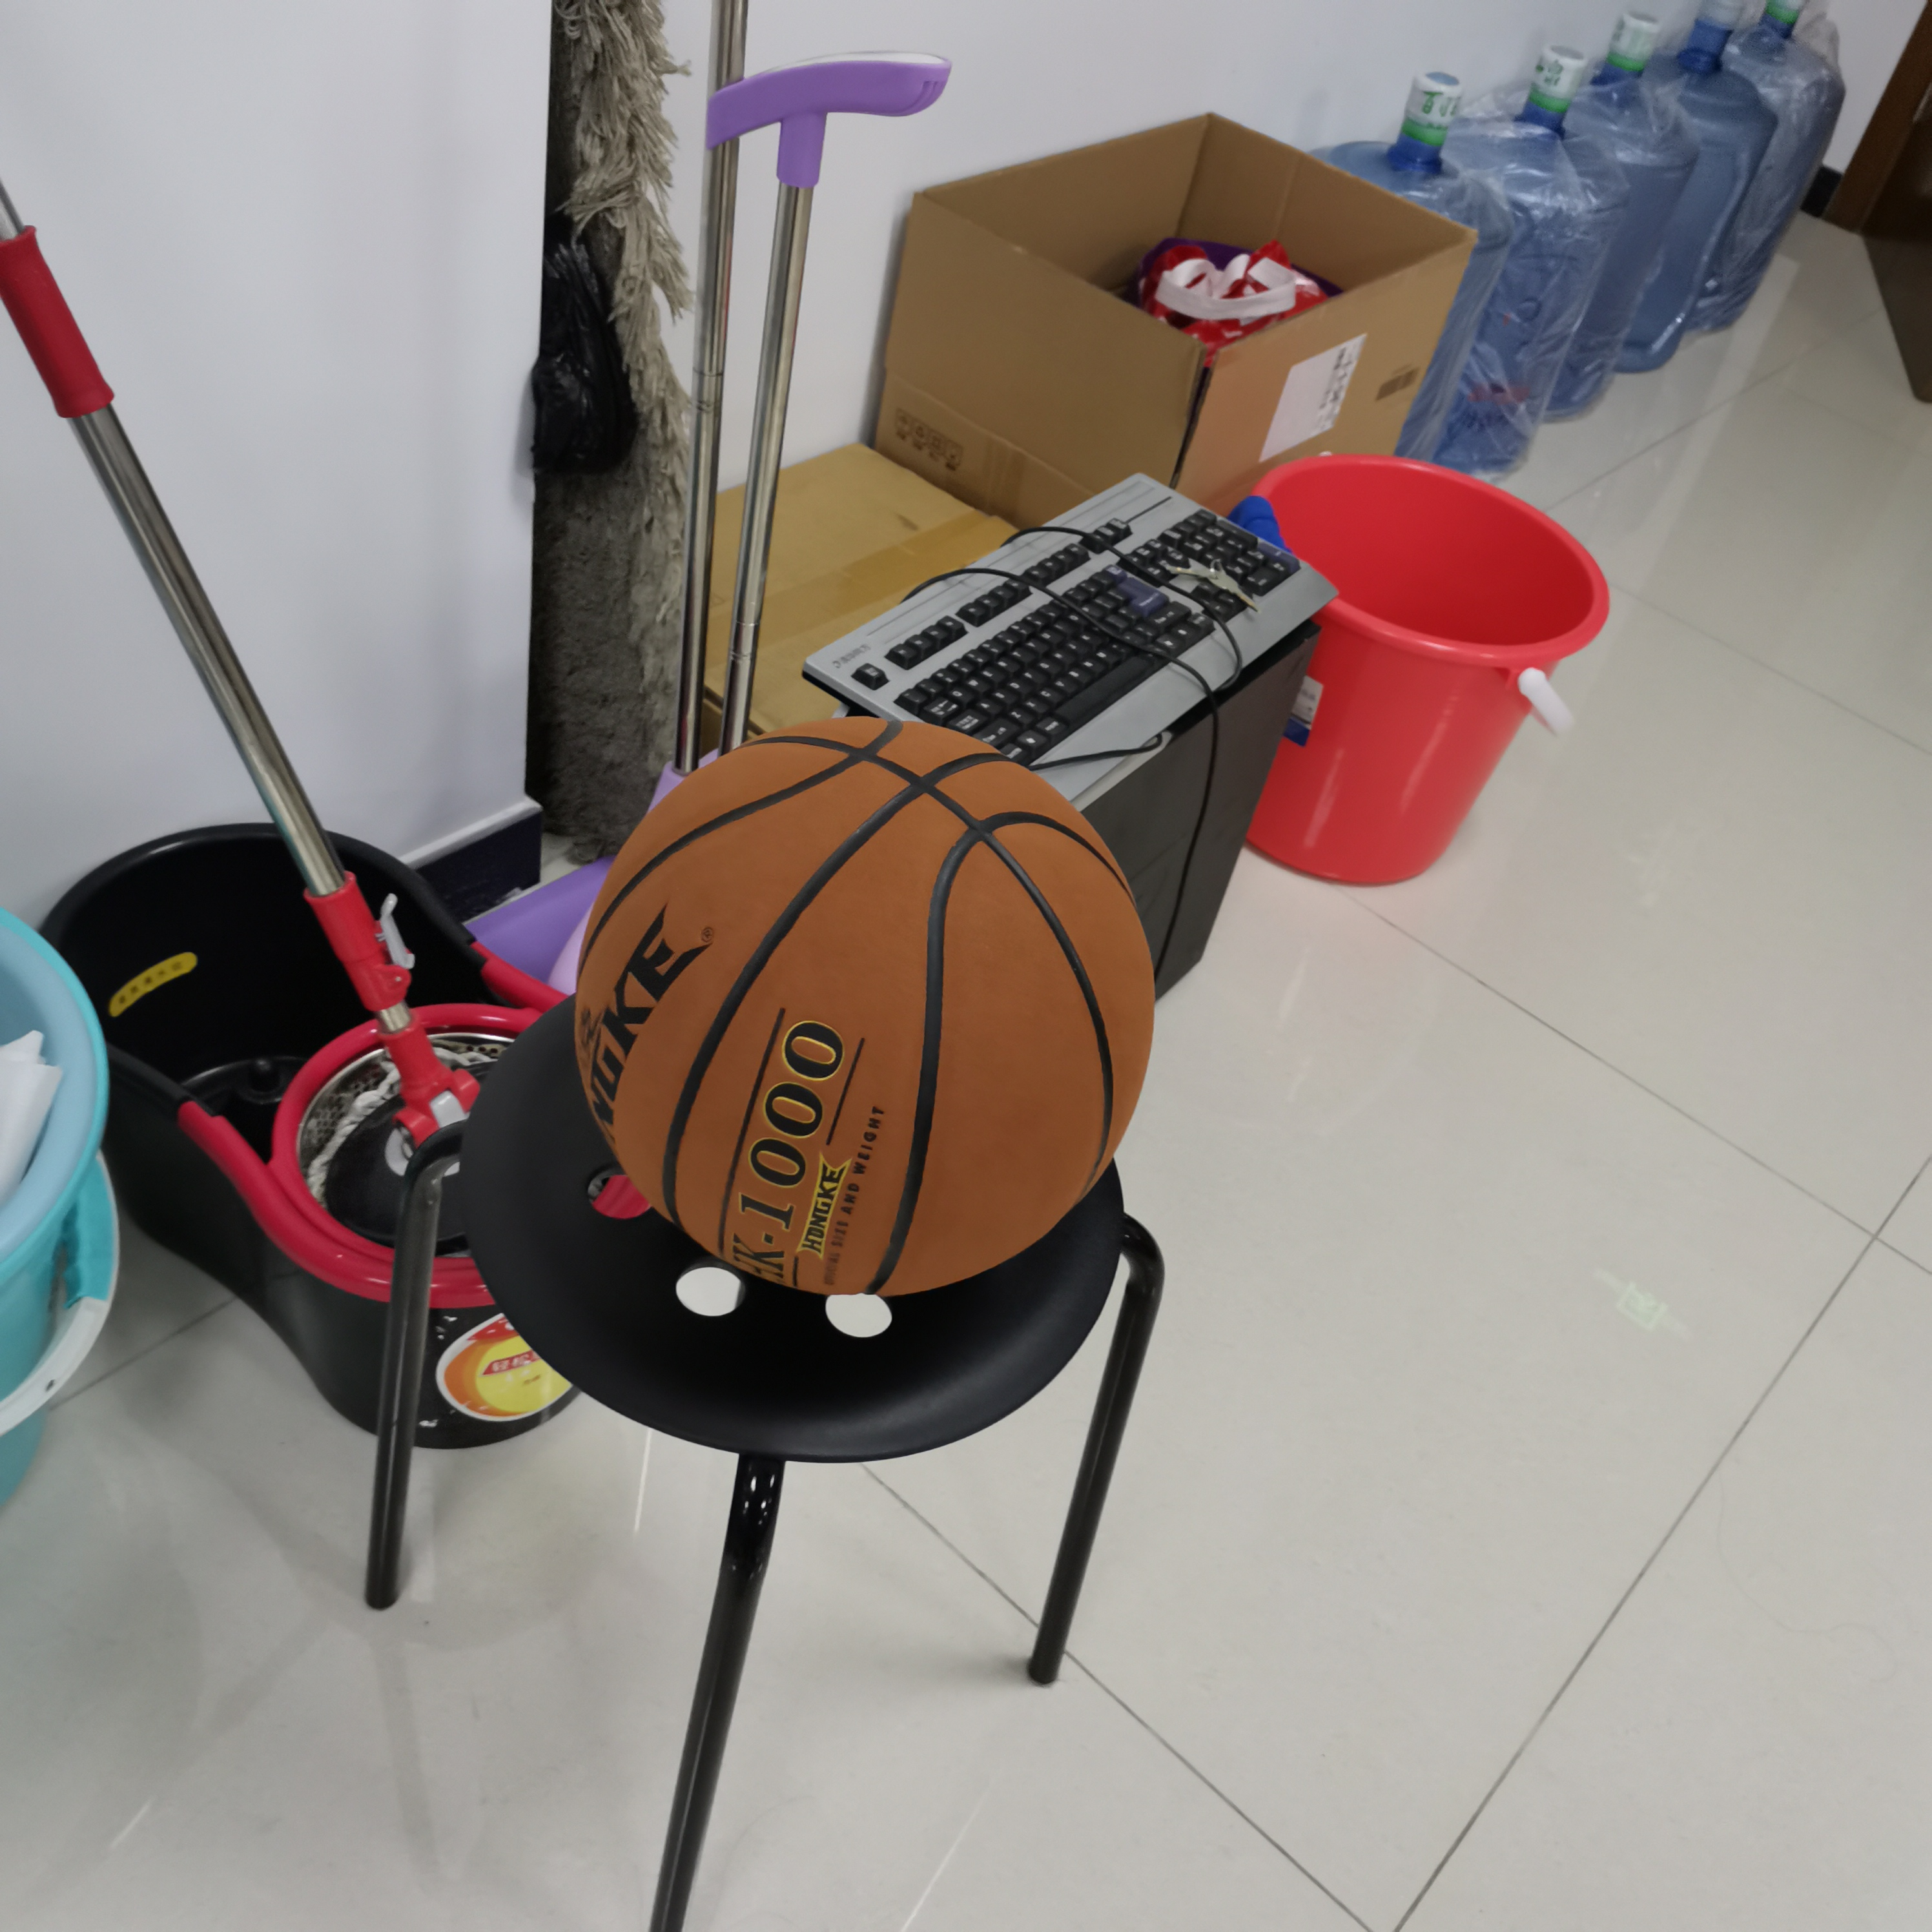basketball: (575, 715, 1157, 1292)
